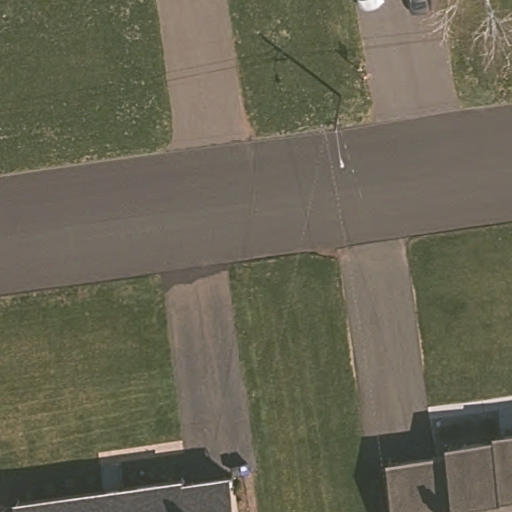DT: (320, 120, 349, 138)
